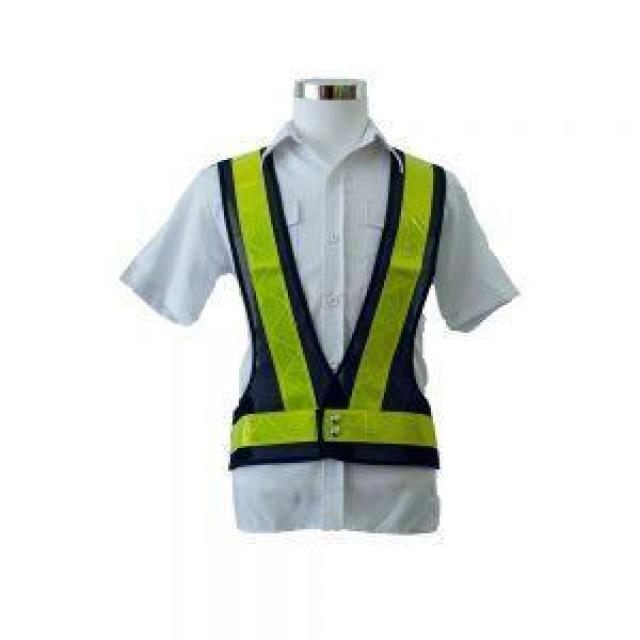Vest: (213, 130, 448, 469)
